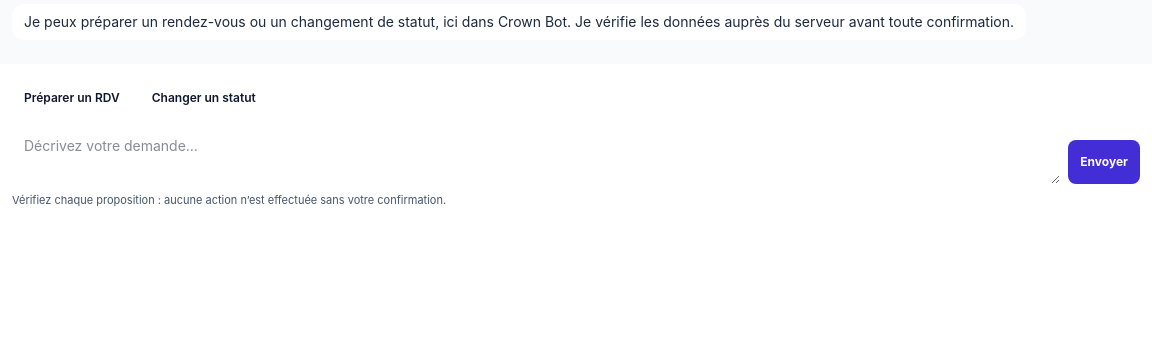
Test: CB-03 G5 — genuine chat-style guided action security › unrecognized phrase is refused locally without any network write
This screenshot has width=1152, height=340.
In the text box named "Votre message à Crown Bot": [536, 156] box 12,128 -> 1060,184, type "Envoie une ordonnance automatique"
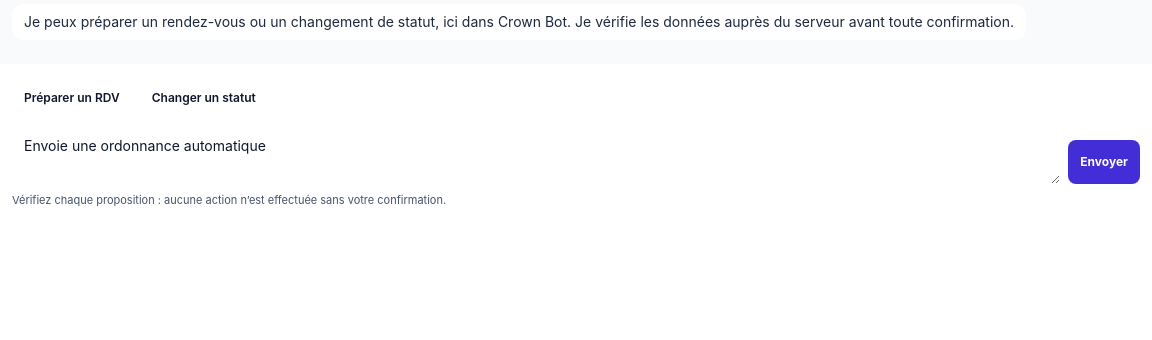
Click the button "Envoyer": [1104, 162] box 1068,140 -> 1140,184
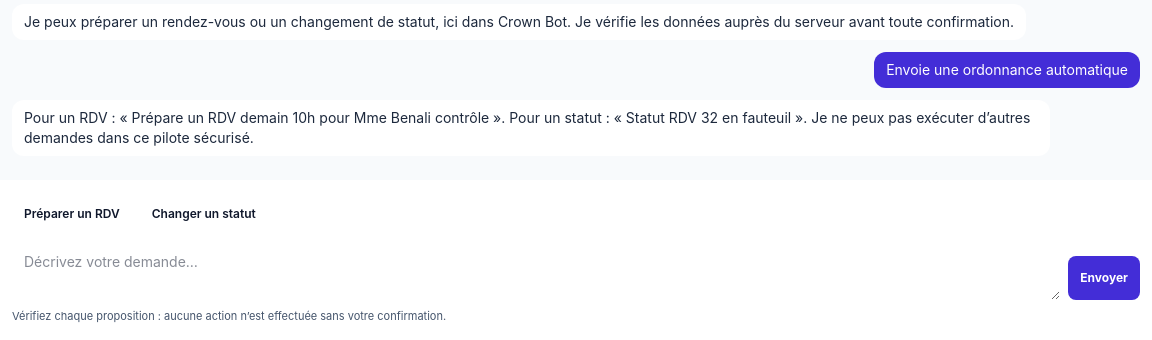
expect the text "Je ne peux pas exécuter d’autres demandes" is shown: met, box 24,109 -> 1034,146
